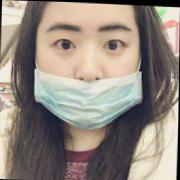WRONG: (32, 11, 144, 134)
